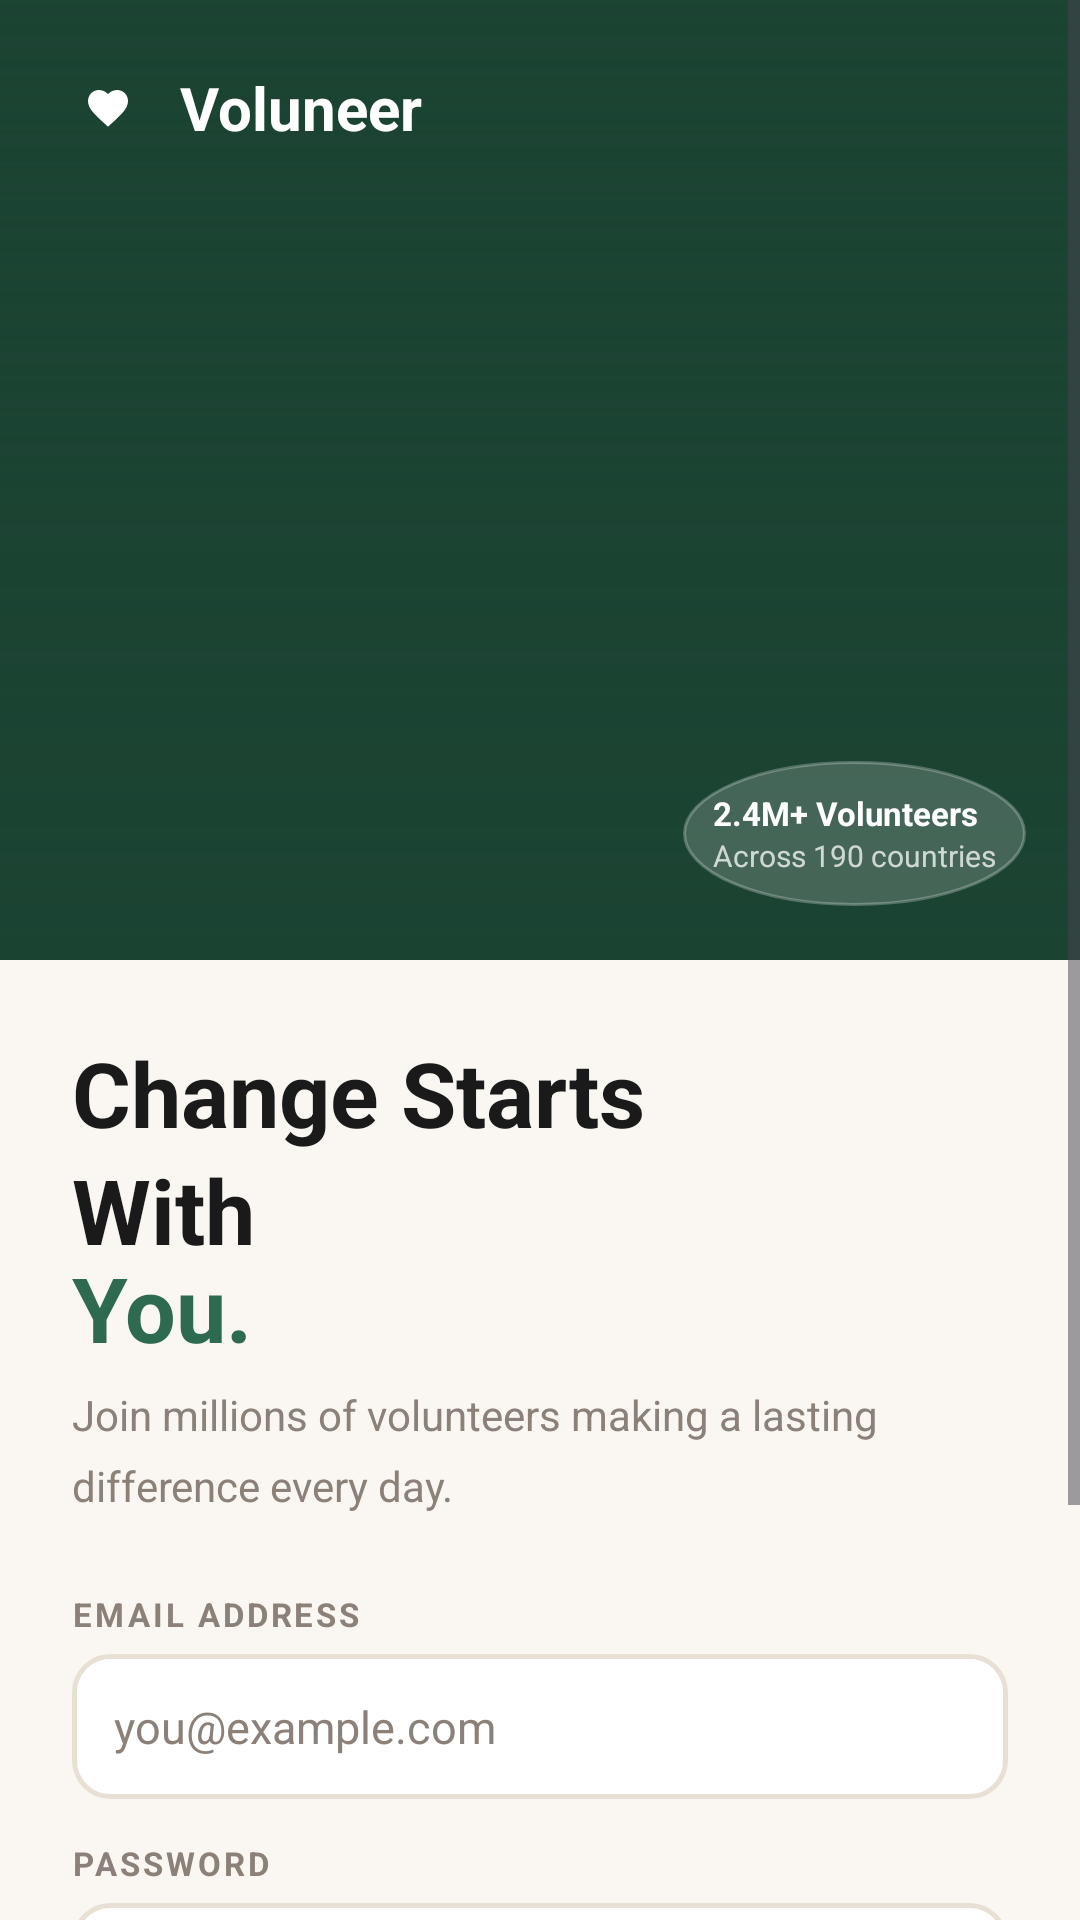

Icons on this 1080 x 1920 Android screen, each with its box as (x1, y1, x2, y2):
heart: (88, 90, 128, 127)
